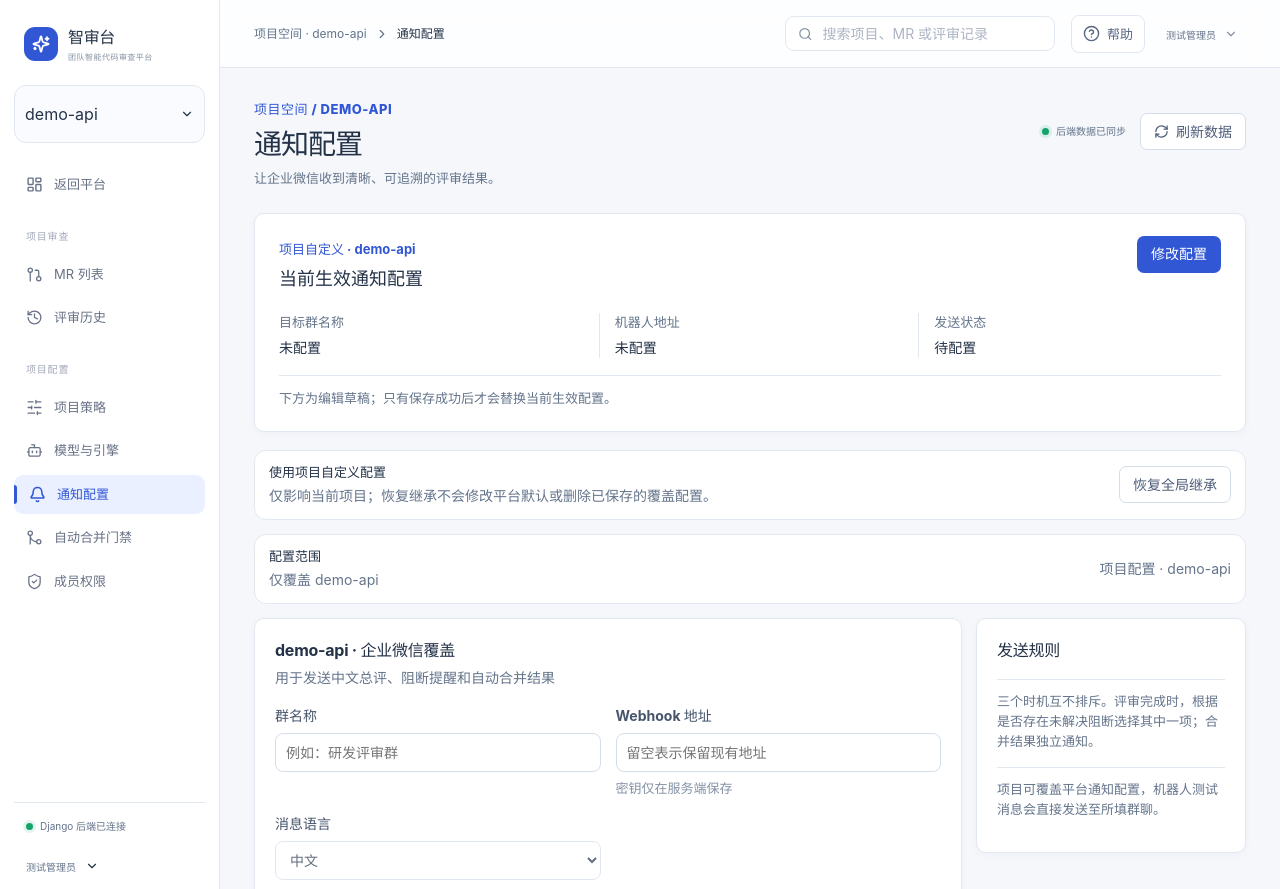
it: uses scoped audit rows, never the global feed, and ignores stale project responses
Click the button with aria-label "切换项目": [110, 114] box x1=14 y1=85 x2=205 y2=143
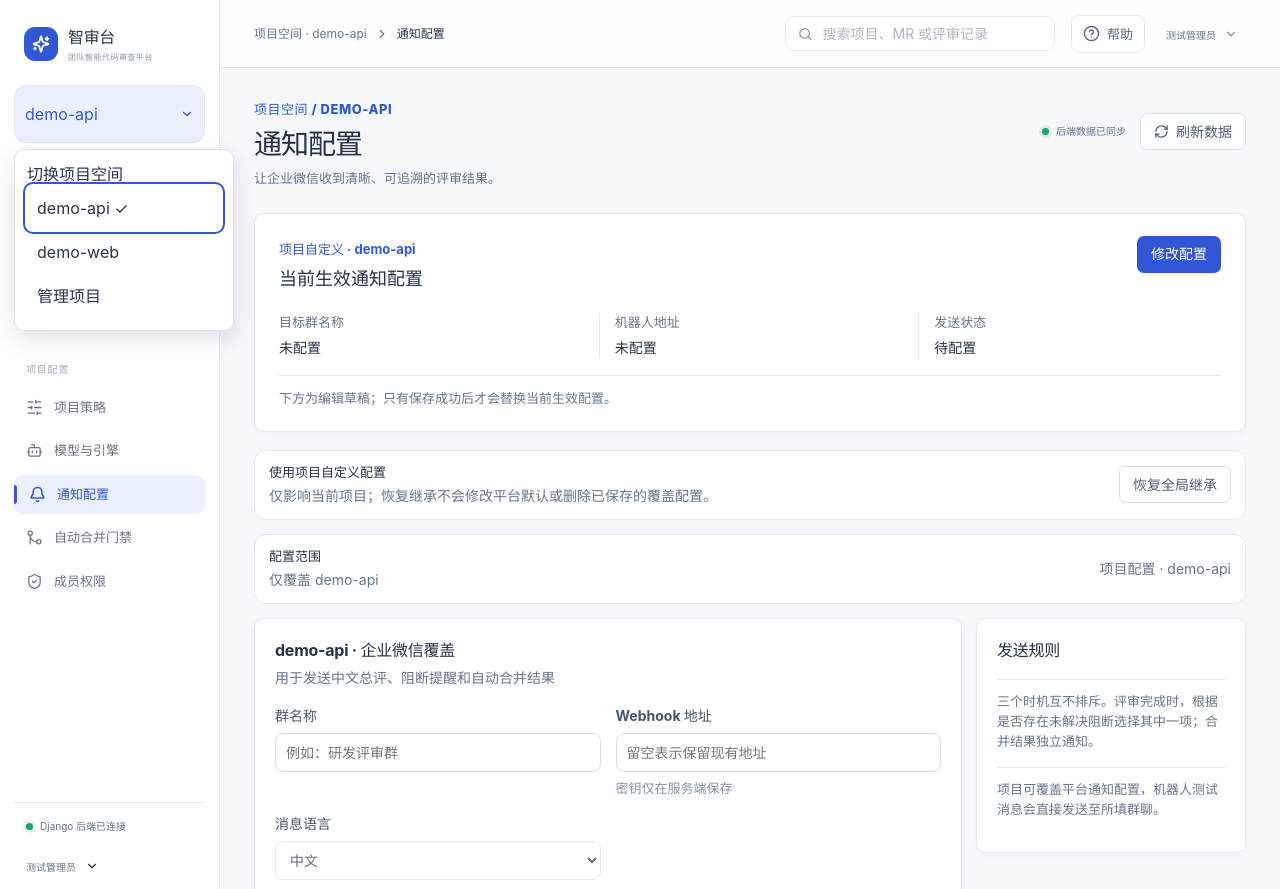
Click the button "demo-web": [124, 252] box x1=27 y1=230 x2=221 y2=274
(page scrolled)
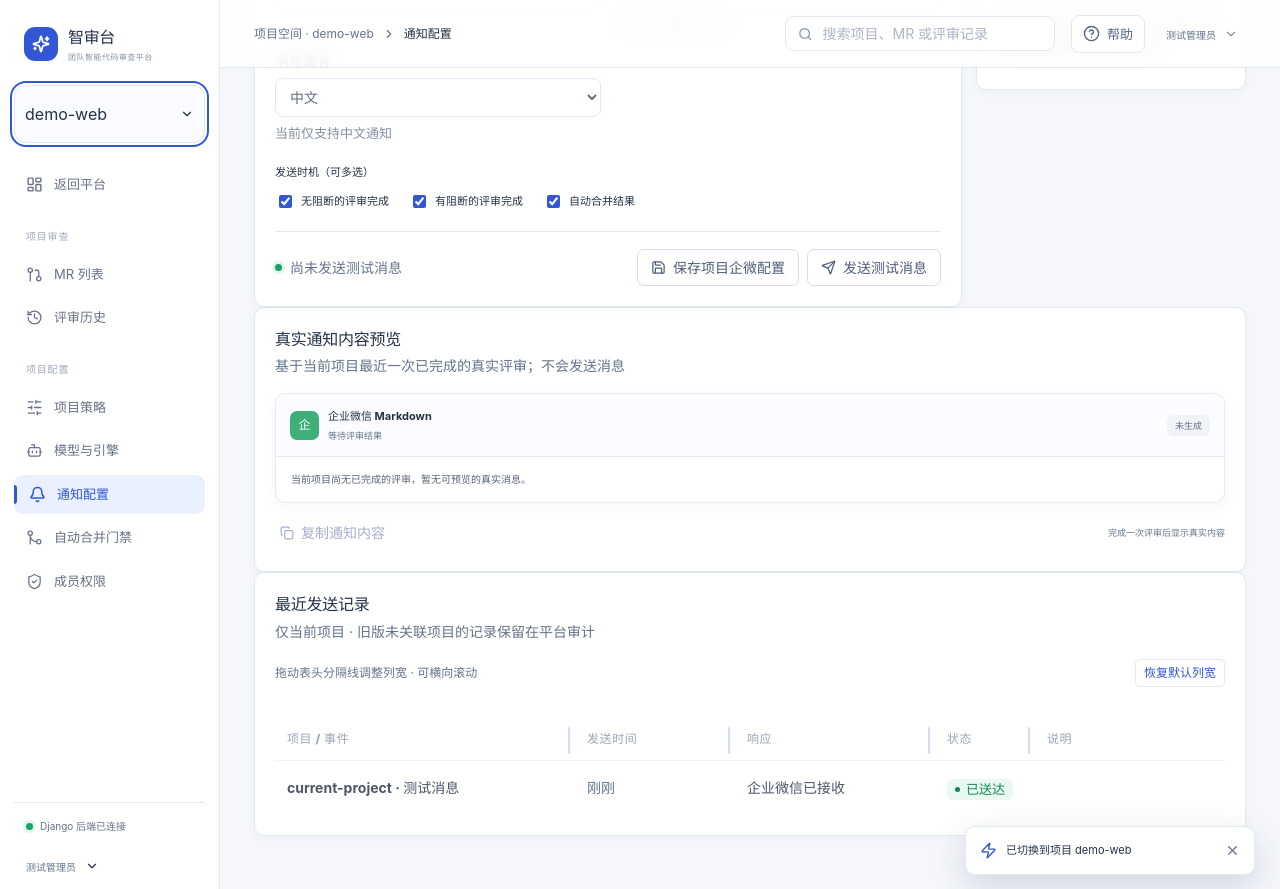
Now the text "current-project · 测试消息" is shown, box x1=287 y1=779 x2=459 y2=796
